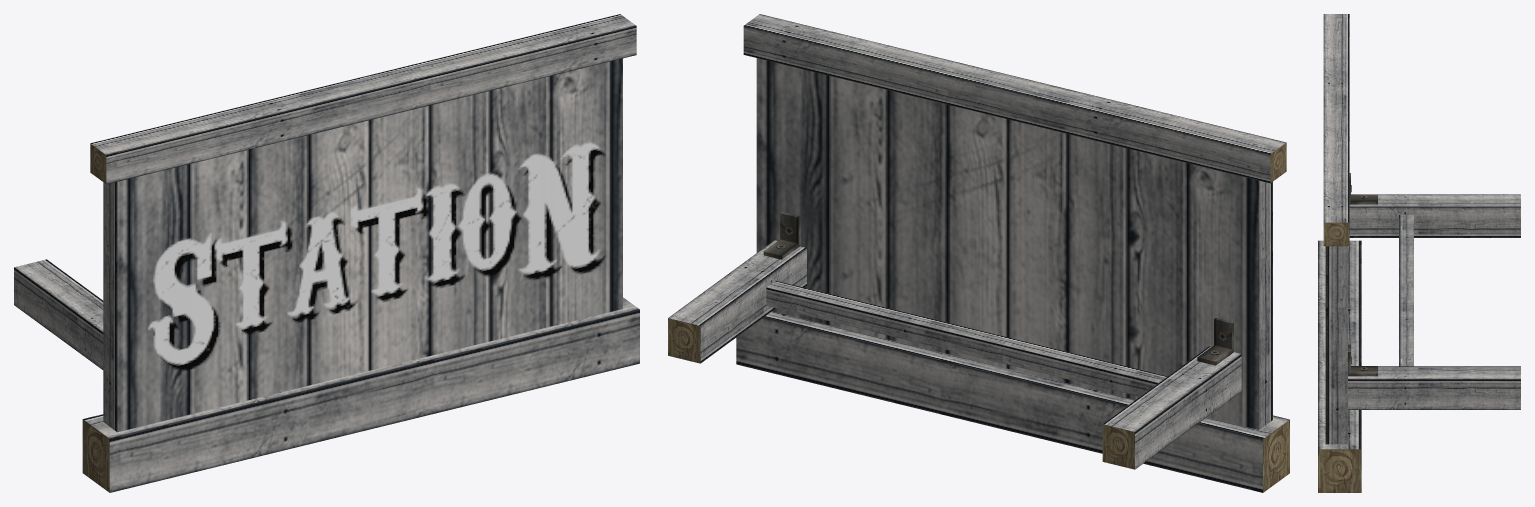
File: signs-11.fbx
3 renders of one model, left to right at view 1: azimuth 30°, elevation 25°; view 2: azimuth 150°, elevation 25°; view 3: azimuth 270°, elevation 25°, orthographic. The views are drawn at different scales.
Visible parts, largest first — view 1: Cube.234; view 2: Cube.234; view 3: Cube.234.
Boxes of the visible parts, <box> form: Cube.234: <box>14,14,639,492</box>; Cube.234: <box>668,14,1289,492</box>; Cube.234: <box>1318,14,1520,492</box>.
Bounding box in the file's own units: 1.76 × 1.06 × 0.724.
